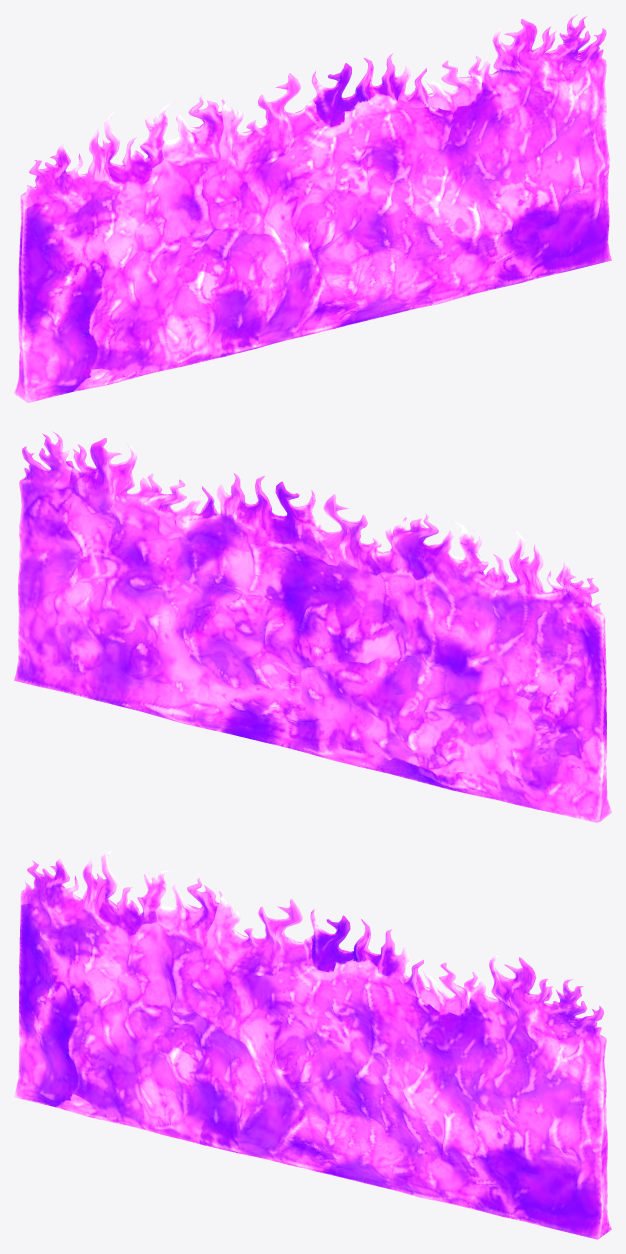
The model's file is MZ4250 - Wall of Fire_purple.glb.
The picture shows the model from 3 angles, top to bottom: view 1: azimuth 30°, elevation 25°; view 2: azimuth 150°, elevation 25°; view 3: azimuth 330°, elevation 25°; orthographic projection.
Visible parts, largest first — view 1: Wall of Fire.001; view 2: Wall of Fire.001; view 3: Wall of Fire.001.
Part boxes in pixels (x1=…): Wall of Fire.001: x1=14, y1=14, x2=611, y2=402; Wall of Fire.001: x1=14, y1=431, x2=611, y2=822; Wall of Fire.001: x1=14, y1=851, x2=611, y2=1239.
Size of the model in its own units: 7.1 by 3.07 by 0.681.
1 material, 1 textured.
